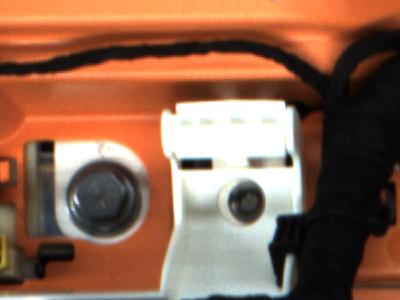nut_b: (61, 157, 148, 241)
